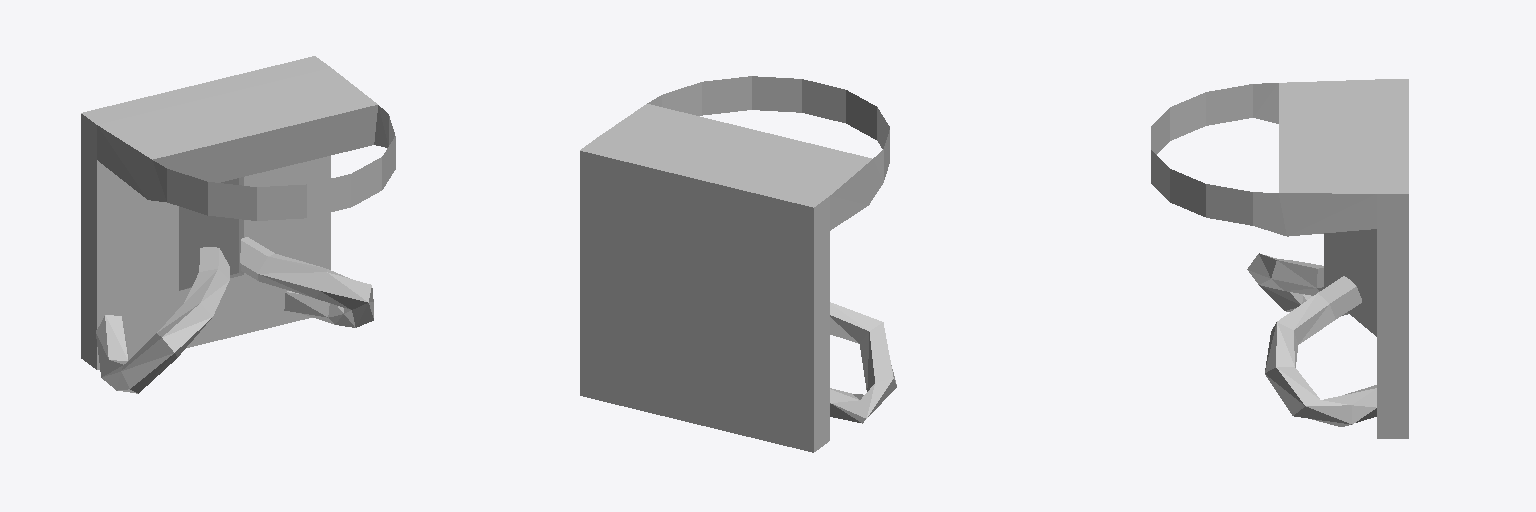
The model's file is fuelWallSimple.obj.
3 renders of one model, left to right at view 1: azimuth 30°, elevation 25°; view 2: azimuth 150°, elevation 25°; view 3: azimuth 270°, elevation 25°, orthographic.
Visible parts, largest first — view 1: Object.1; view 2: Object.1; view 3: Object.1.
Part boxes in pixels (left/top/right/bottom): Object.1: left=81, top=56, right=395, bottom=393; Object.1: left=580, top=76, right=896, bottom=452; Object.1: left=1151, top=79, right=1408, bottom=438.
Bounding box in the file's own units: 98.85 × 88.85 × 84.98.